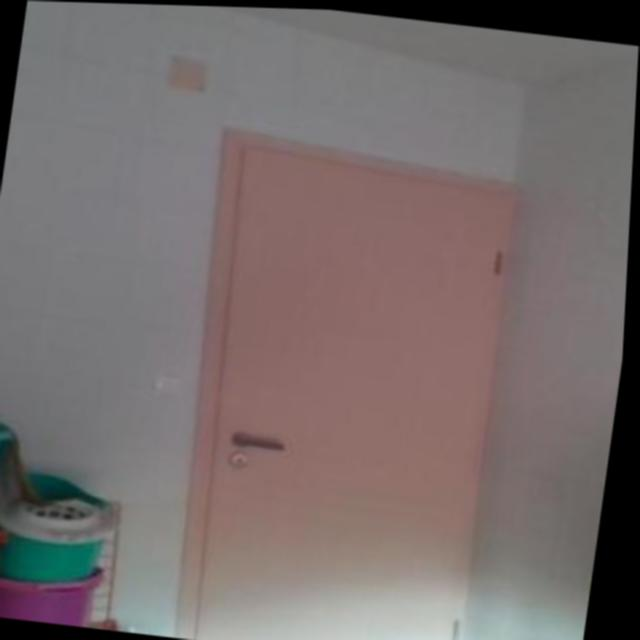door_handle: (232, 422, 304, 456)
